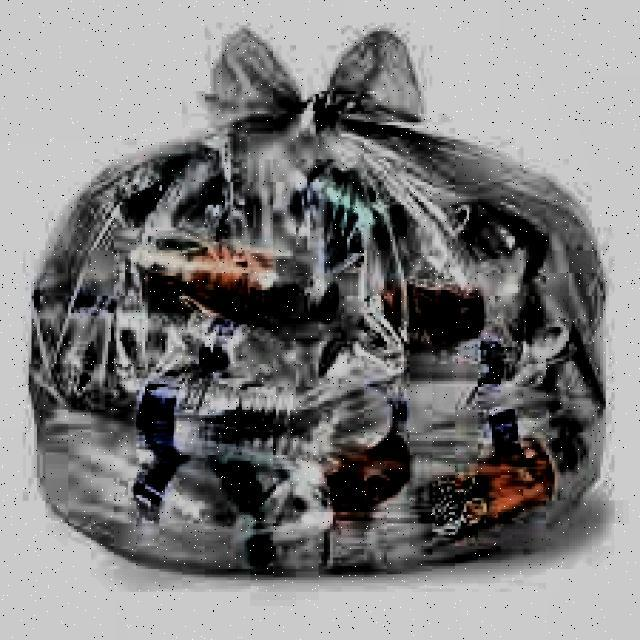Trashbag: (31, 18, 615, 590)
